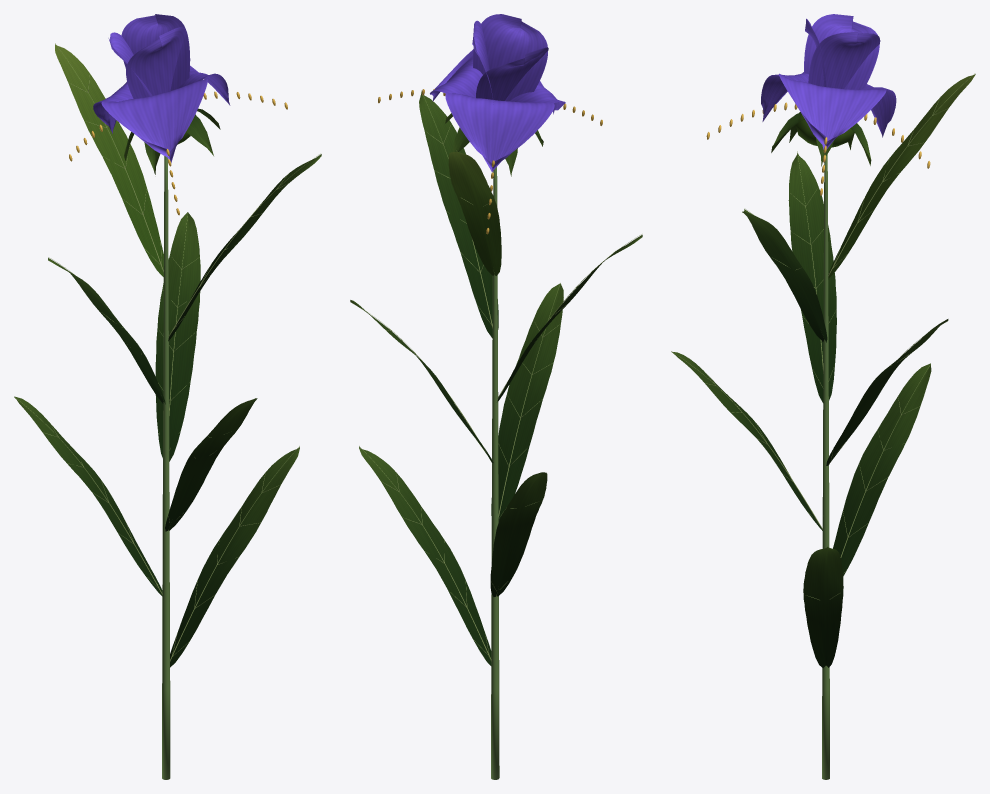
Rendered from iris-09.glb.
3 views of the same model, side by side, from view 1: azimuth 30°, elevation 25°; view 2: azimuth 150°, elevation 25°; view 3: azimuth 270°, elevation 25° (orthographic).
Parts seen in each view (by area): view 1: iris_stage_09_leaf_veins.016, iris_stage_09_iris_petal.016, iris_stage_09_young_leaf.016, iris_stage_09_stem_fibres.016, iris_stage_09_raised_midveins.016; view 2: iris_stage_09_leaf_veins.016, iris_stage_09_iris_petal.016, iris_stage_09_young_leaf.016, iris_stage_09_stem_fibres.016, iris_stage_09_raised_midveins.016; view 3: iris_stage_09_leaf_veins.016, iris_stage_09_iris_petal.016, iris_stage_09_young_leaf.016, iris_stage_09_stem_fibres.016, iris_stage_09_raised_midveins.016.
Boxes of the visible parts, left/top/right/bottom form: iris_stage_09_leaf_veins.016: left=14, top=108, right=321, bottom=667; iris_stage_09_iris_petal.016: left=93, top=14, right=230, bottom=162; iris_stage_09_young_leaf.016: left=55, top=44, right=196, bottom=276; iris_stage_09_stem_fibres.016: left=162, top=156, right=170, bottom=779; iris_stage_09_raised_midveins.016: left=15, top=43, right=320, bottom=661; iris_stage_09_leaf_veins.016: left=350, top=92, right=642, bottom=665; iris_stage_09_iris_petal.016: left=430, top=14, right=565, bottom=171; iris_stage_09_young_leaf.016: left=448, top=151, right=501, bottom=275; iris_stage_09_stem_fibres.016: left=491, top=167, right=499, bottom=779; iris_stage_09_raised_midveins.016: left=359, top=90, right=641, bottom=660; iris_stage_09_leaf_veins.016: left=671, top=112, right=948, bottom=668; iris_stage_09_iris_petal.016: left=761, top=14, right=896, bottom=149; iris_stage_09_young_leaf.016: left=795, top=74, right=975, bottom=278; iris_stage_09_stem_fibres.016: left=822, top=154, right=829, bottom=779; iris_stage_09_raised_midveins.016: left=671, top=73, right=975, bottom=600.
Size of the model in its own units: 0.2857 by 0.7712 by 0.2822.
6 materials, 3 textured.
